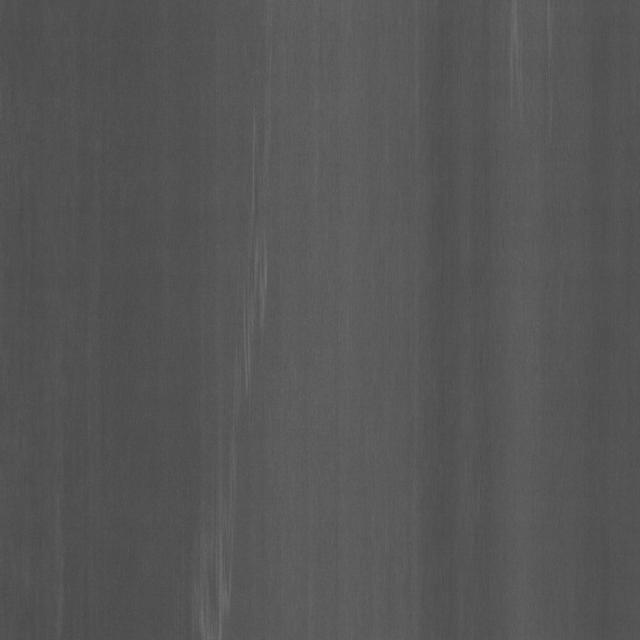inclusion: (223, 135, 284, 407)
